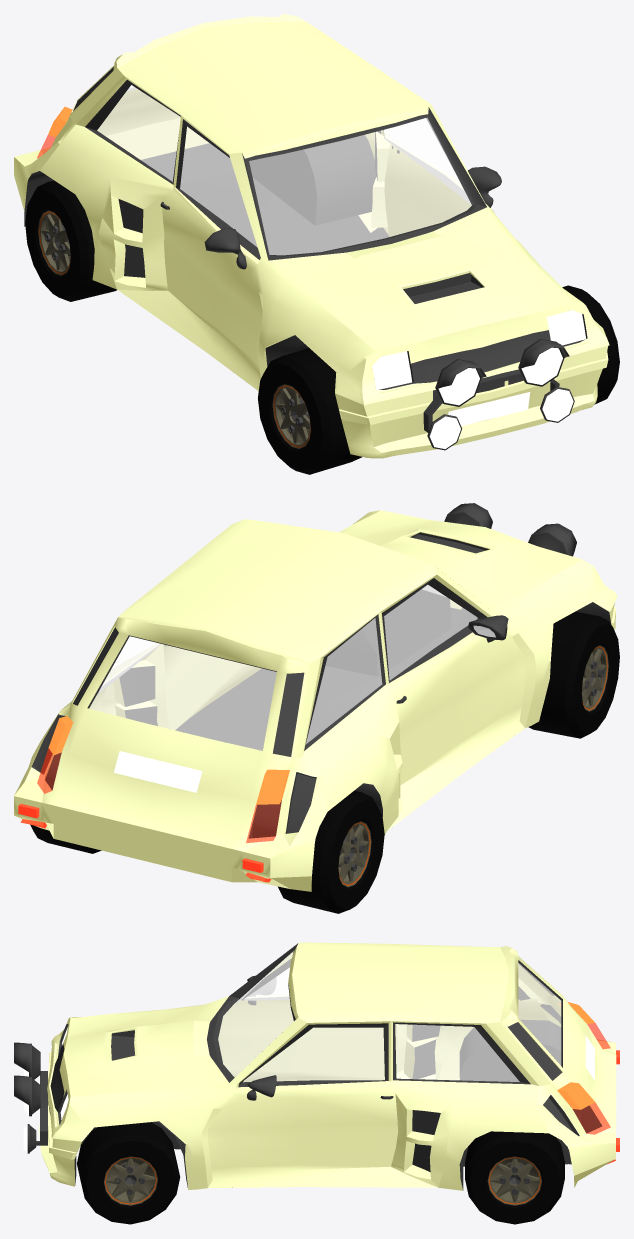
The model's file is coche.gltf.
The picture shows the model from 3 angles, top to bottom: view 1: azimuth 30°, elevation 25°; view 2: azimuth 150°, elevation 25°; view 3: azimuth 270°, elevation 25°; orthographic projection. The views are drawn at different scales.
Visible parts, largest first — view 1: base, rueda.001, rueda, luces frontales, retrovisor, matricula.001, PALO LUCES DELANTERAS; view 2: base, rueda.001, rueda, matricula, luces frontales, retrovisor; view 3: base, rueda.001, rueda, luces frontales, retrovisor, PALO LUCES DELANTERAS.
Part boxes in pixels (x1,y1,x2,y2): base: (14,14,609,458); rueda.001: (258,285,619,474); rueda: (25,180,116,301); luces frontales: (427,338,574,450); retrovisor: (204,166,501,269); matricula.001: (448,392,530,425); PALO LUCES DELANTERAS: (423,369,559,432); base: (14,510,617,891); rueda.001: (528,611,619,738); rueda: (30,790,384,913); matricula: (114,751,202,792); luces frontales: (444,503,576,556); retrovisor: (468,615,508,642); base: (39,942,619,1190); rueda.001: (77,1122,180,1224); rueda: (465,1131,564,1224); luces frontales: (14,1042,40,1153); retrovisor: (247,975,276,1100); PALO LUCES DELANTERAS: (35,1071,47,1145).
Size of the model in its own units: 7.55 by 5.6 by 15.76.
